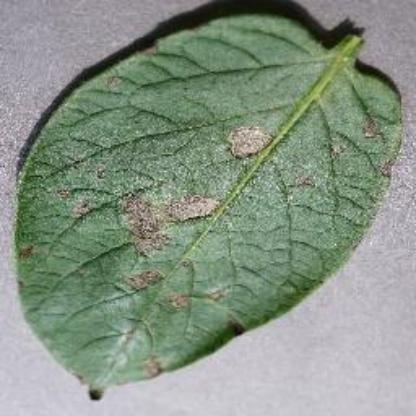Early-Blight: (17, 4, 416, 402)
